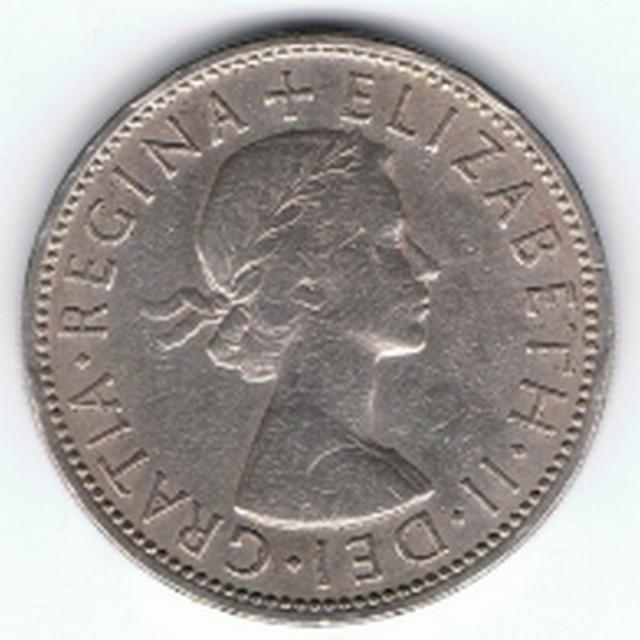Coin: (17, 28, 618, 629)
